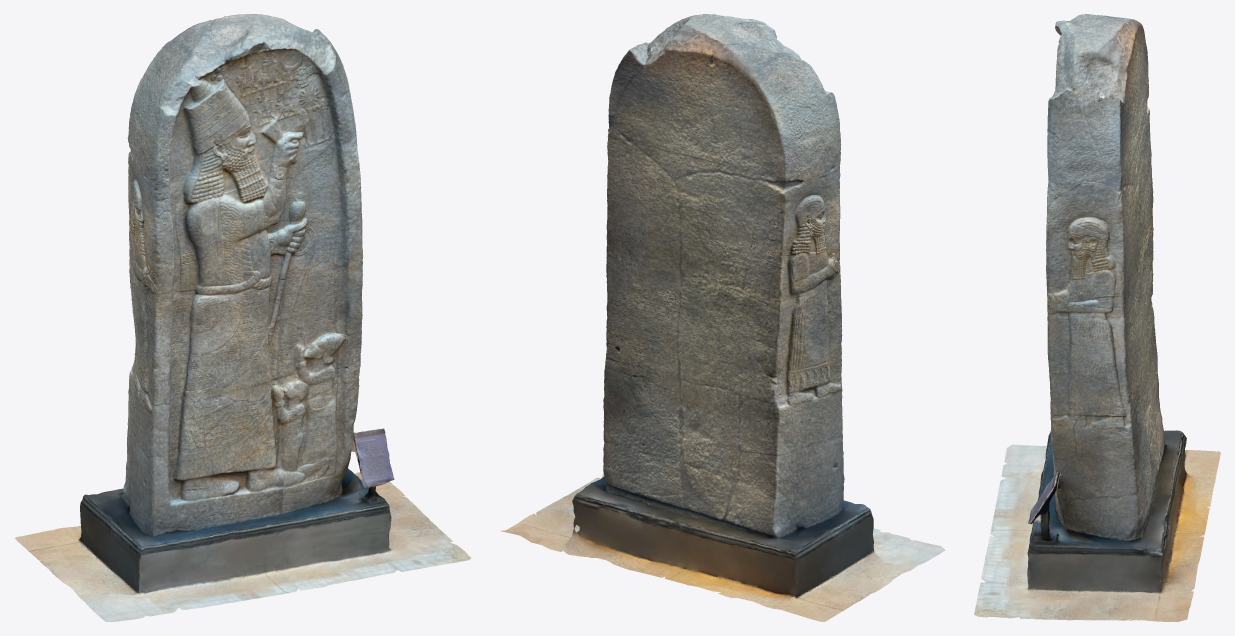
3 renders of one model, left to right at view 1: azimuth 30°, elevation 25°; view 2: azimuth 150°, elevation 25°; view 3: azimuth 270°, elevation 25°, orthographic. The views are drawn at different scales.
Visible parts, largest first — view 1: Object_0; view 2: Object_0; view 3: Object_0.
Part boxes in pixels (box(x1,y1,x2,y2)): Object_0: box(14, 14, 471, 621); Object_0: box(501, 14, 944, 621); Object_0: box(974, 14, 1220, 621).
Bounding box in the file's own units: 2.15 × 3 × 1.31.
Materials: 1 (1 with a texture image).
